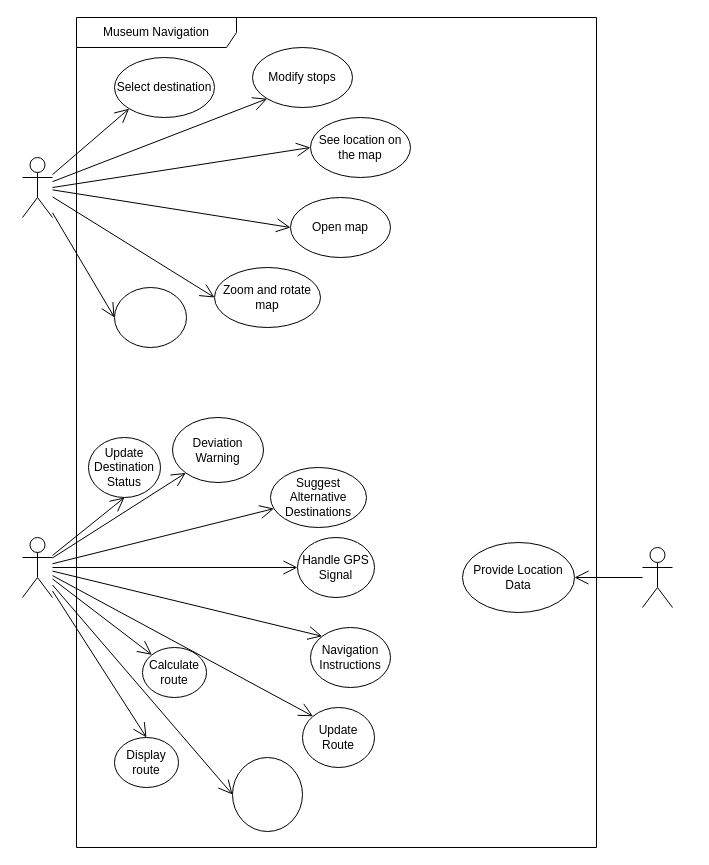
Some shapes in this 709 by 865 pixel diagram are drawn without their labels. Here are the shapes that lost their labels. From the top down, the box of each, then its label:
(22, 156, 52, 218): User
(114, 286, 186, 348): View traffic
(22, 536, 52, 598): System
(642, 546, 672, 608): GPS Service
(232, 756, 302, 832): Calculate arrival time
